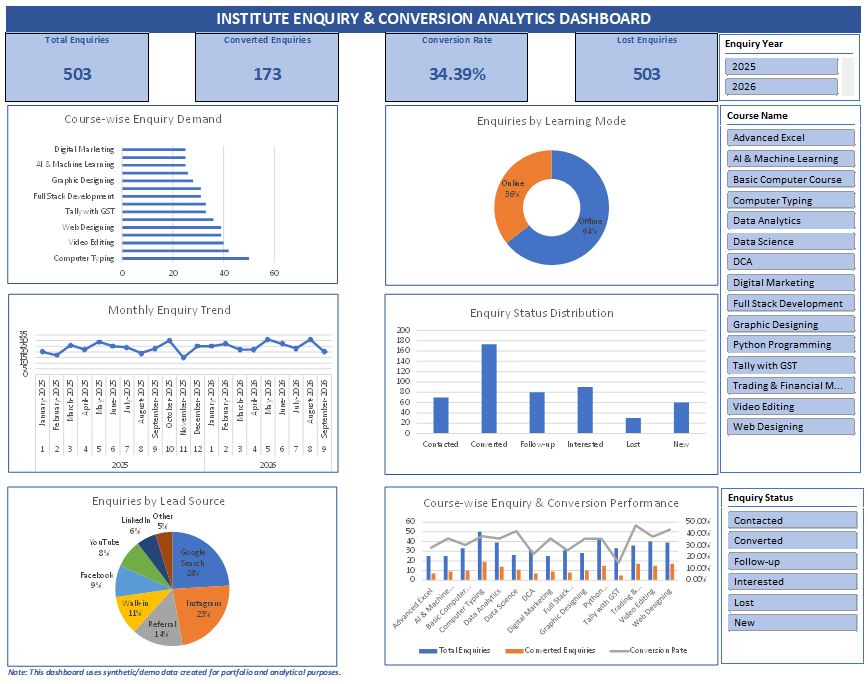

The dashboard page shown, as its layout file describes it:
{"tool":"powerbi","page":{"name":"Enquiry & Conversion Analysis","canvas":[1920,1080],"ordinal":1},"visuals":[{"type":"textbox","box":[10,0,524,58],"z":0},{"type":"textbox","box":[10.3,43.2,524.9,70],"z":1000},{"type":"cardVisual","title":"Total Enquiries","fields":{"Data":["CountNonNull(institute_analytics enquiries.enquiry_id)"]},"box":[10.9,112.2,479.6,106.8],"z":2000},{"type":"cardVisual","title":"Converted Enquiries","fields":{"Data":["CountNonNull(institute_analytics enquiries.enquiry_id)"]},"box":[505.5,112.2,423.5,106.8],"z":3000},{"type":"cardVisual","title":"Conversion Rate","fields":{"Data":["institute_analytics enquiries.Conversion Rate"]},"box":[944,112.2,443.4,105],"z":4000},{"type":"slicer","title":"Data Source","fields":{"Values":["institute_analytics enquiries.data_source"]},"box":[1402.5,112.2,407.5,107],"z":5000},{"type":"barChart","title":"Course-wise Enquiry & Conversion Status","fields":{"Category":["institute_analytics courses.course_name"],"Series":["institute_analytics enquiries.enquiry_status"],"Y":["CountNonNull(institute_analytics enquiries.enquiry_id)"]},"box":[10.9,233.4,917.5,457.8],"z":6000},{"type":"clusteredColumnChart","title":"Enquiries by Lead Source","fields":{"Category":["institute_analytics enquiries.lead_source"],"Y":["CountNonNull(institute_analytics enquiries.enquiry_id)"]},"box":[946.5,233.4,863.2,457.8],"z":7000},{"type":"donutChart","title":"Enquiries by Learning Mode","fields":{"Category":["institute_analytics enquiries.learning_mode"],"Y":["CountNonNull(institute_analytics enquiries.enquiry_id)"]},"box":[7.2,705.4,921.1,374.6],"z":8000},{"type":"lineChart","title":"Monthly Conversion Trend","fields":{"Category":["institute_analytics enquiries.Month Year"],"Y":["CountNonNull(institute_analytics enquiries.enquiry_id)"]},"box":[946.5,705.4,863.2,374.6],"z":9000},{"type":"pageNavigator","box":[1203.4,19.9,606.2,50.7],"z":9001}]}

Visuals, with their boxes on the page's 1920x1080 design canvas (x1, y1, x2, y2). These are canvas units, not pixel positions in the 868x684 screenshot, which may show the page scaled, cropped or inside an application window:
textbox: 10/0/534/58
textbox: 10/43/535/113
"Total Enquiries" cardVisual: 11/112/490/219
"Converted Enquiries" cardVisual: 506/112/929/219
"Conversion Rate" cardVisual: 944/112/1387/217
"Data Source" slicer: 1402/112/1810/219
"Course-wise Enquiry & Conversion Status" barChart: 11/233/928/691
"Enquiries by Lead Source" clusteredColumnChart: 946/233/1810/691
"Enquiries by Learning Mode" donutChart: 7/705/928/1080
"Monthly Conversion Trend" lineChart: 946/705/1810/1080
pageNavigator: 1203/20/1810/71
